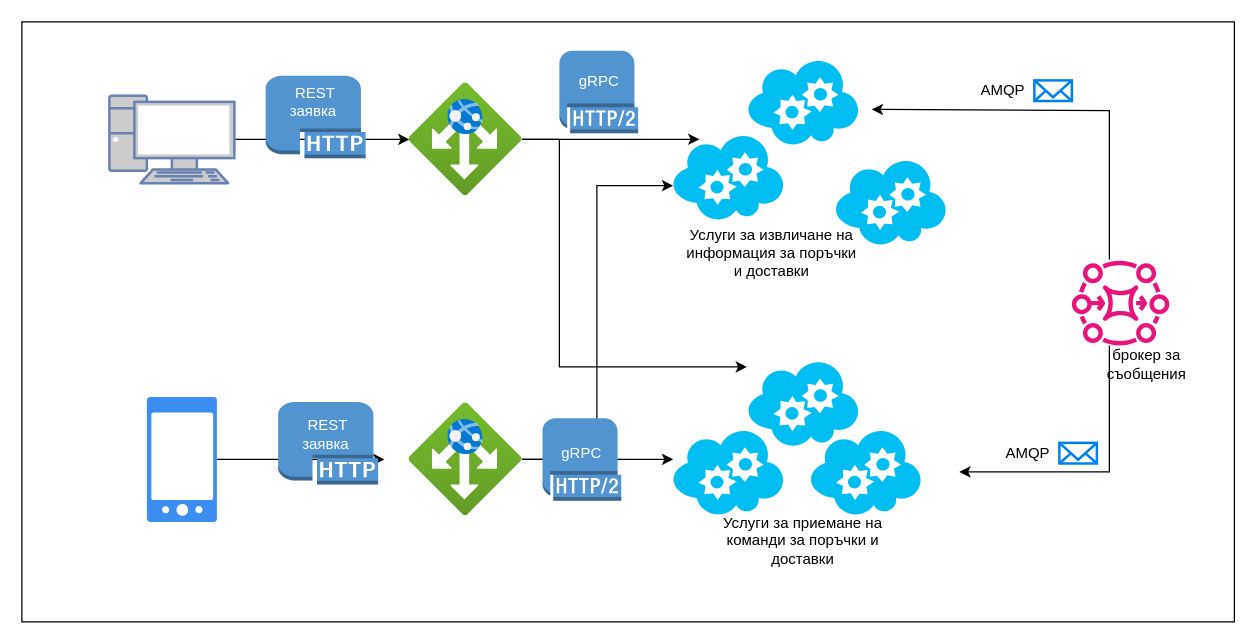
Image size: 1256x644. Some labels were removed from this diagram. Each missing label, with the box of its shape:
API Gateway за мобилно приложение: (409, 402, 521, 515)
API Gateway за уеб портал: (409, 82, 521, 195)
